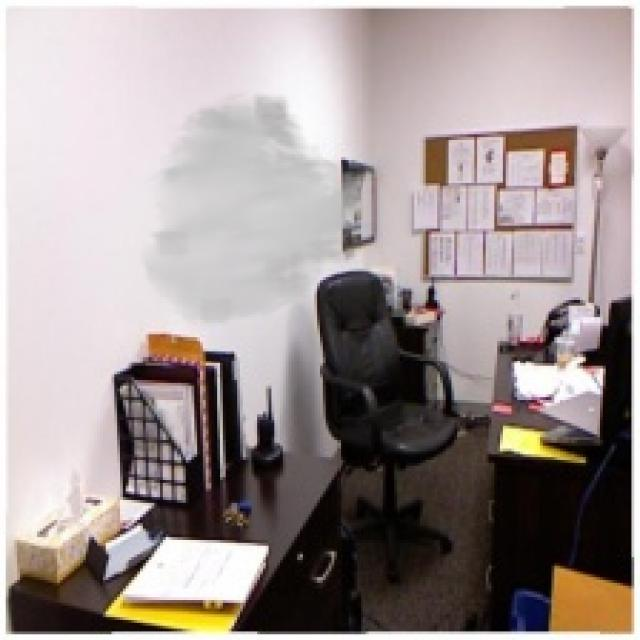smoke: (137, 89, 383, 328)
